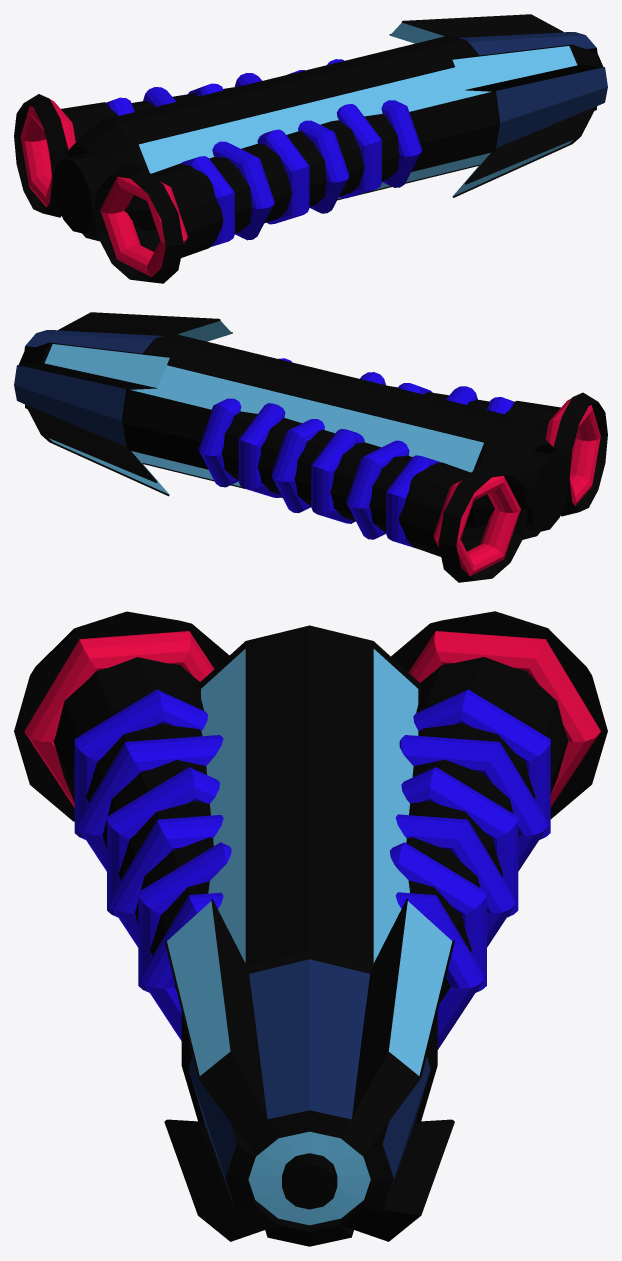
Rendered from weapon thing.fbx.
The picture shows the model from 3 angles, top to bottom: view 1: azimuth 30°, elevation 25°; view 2: azimuth 150°, elevation 25°; view 3: azimuth 270°, elevation 25°; orthographic projection. The views are drawn at different scales.
Visible parts, largest first — view 1: Cylinder, Torus.006, Torus.001; view 2: Cylinder, Torus.001, Torus.006; view 3: Cylinder, Torus.001, Torus.006.
Boxes of the visible parts, bbox=[...] form: Cylinder: bbox=[53, 14, 607, 241]; Torus.006: bbox=[94, 100, 422, 283]; Torus.001: bbox=[14, 59, 344, 217]; Cylinder: bbox=[14, 312, 569, 539]; Torus.001: bbox=[198, 398, 528, 582]; Torus.006: bbox=[278, 358, 607, 516]; Cylinder: bbox=[164, 625, 454, 1246]; Torus.001: bbox=[389, 611, 607, 1049]; Torus.006: bbox=[14, 611, 231, 1040].
Bounding box in the file's own units: 901 × 230 × 464.
